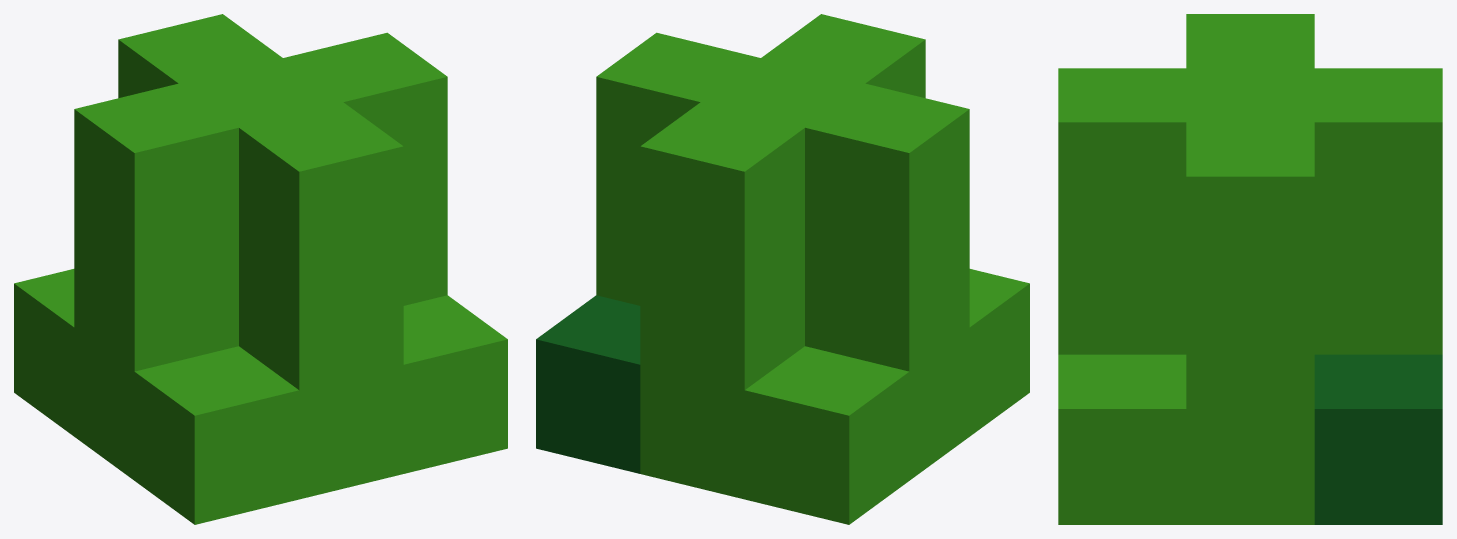
Rendered from indicatorON.obj.
3 views of the same model, side by side, from view 1: azimuth 30°, elevation 25°; view 2: azimuth 150°, elevation 25°; view 3: azimuth 270°, elevation 25° (orthographic). The views are drawn at different scales.
Bounding box in the file's own units: 0.3 × 0.3 × 0.3.
Materials: 1 (1 with a texture image).
